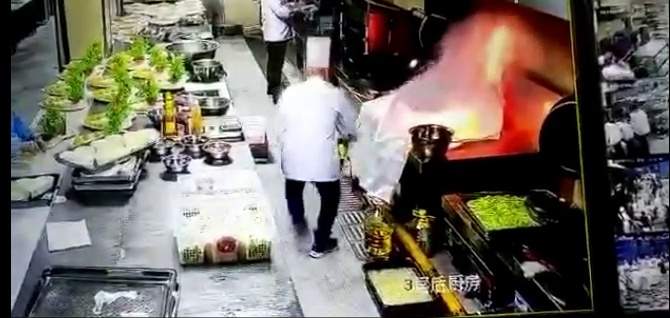fire: (442, 10, 531, 141)
